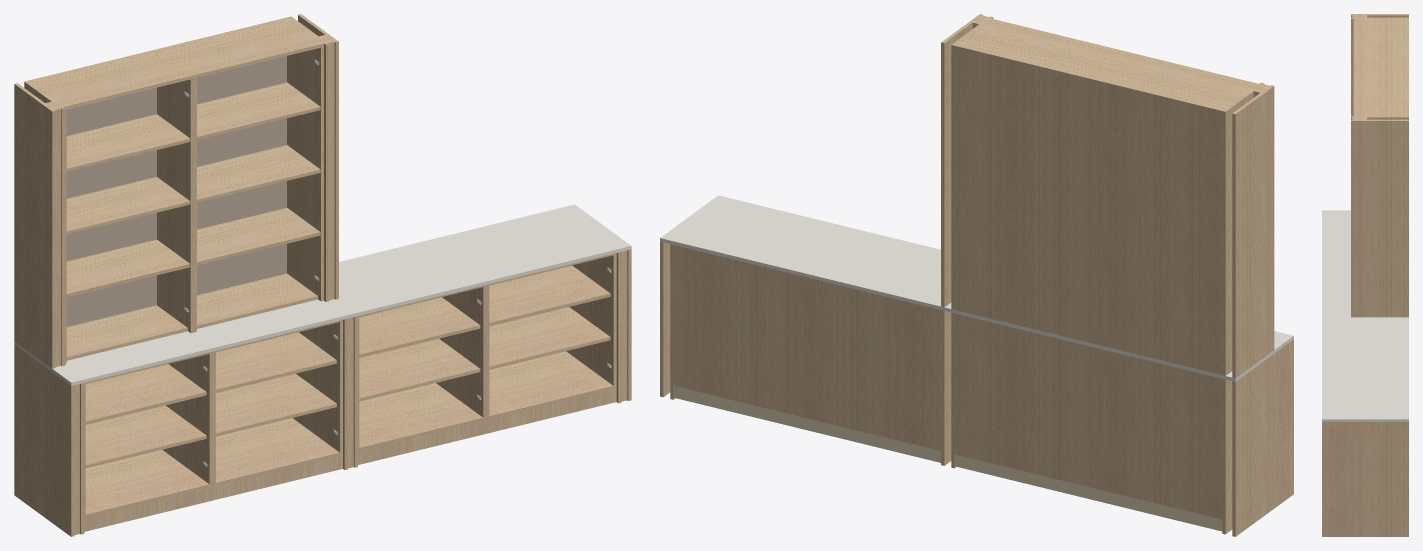
Rendered from korpus.glb.
3 views of the same model, side by side, from view 1: azimuth 30°, elevation 25°; view 2: azimuth 150°, elevation 25°; view 3: azimuth 270°, elevation 25° (orthographic). The views are drawn at different scales.
Parts seen in each view (by area): view 1: 2025-284 Vitrineskap; view 2: 2025-284 Vitrineskap; view 3: 2025-284 Vitrineskap.
Boxes of the visible parts, x1,y1,x2,y2 form: 2025-284 Vitrineskap: (14,14,631,536); 2025-284 Vitrineskap: (660,14,1293,536); 2025-284 Vitrineskap: (1322,14,1408,536).
Size of the model in its own units: 3420 by 2400 by 600.
Materials: 9 (3 with a texture image).
